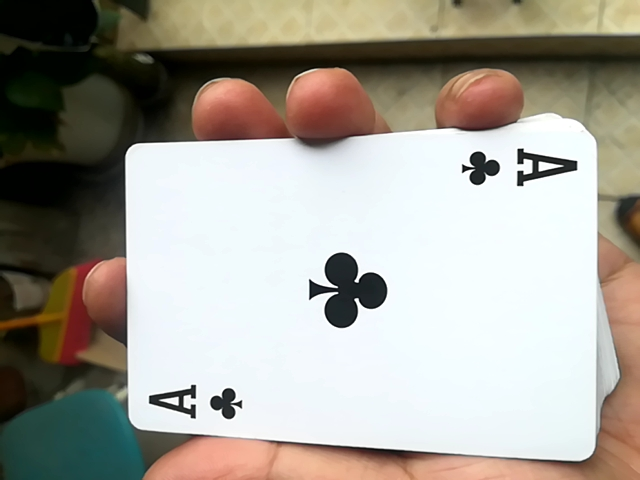mh a: (112, 123, 602, 467)
